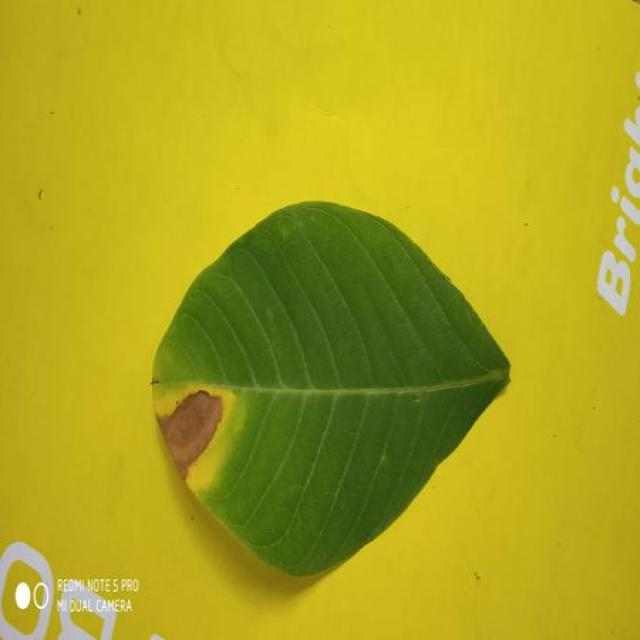chakte: (153, 202, 510, 575)
seedling blight: (155, 381, 252, 494)
